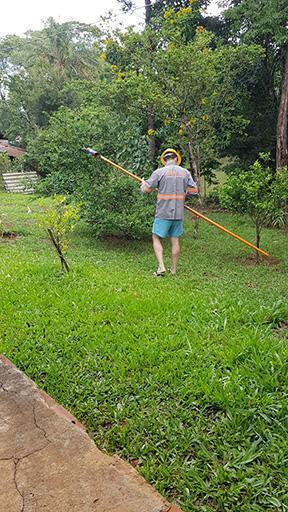helmet: (159, 146, 184, 168)
